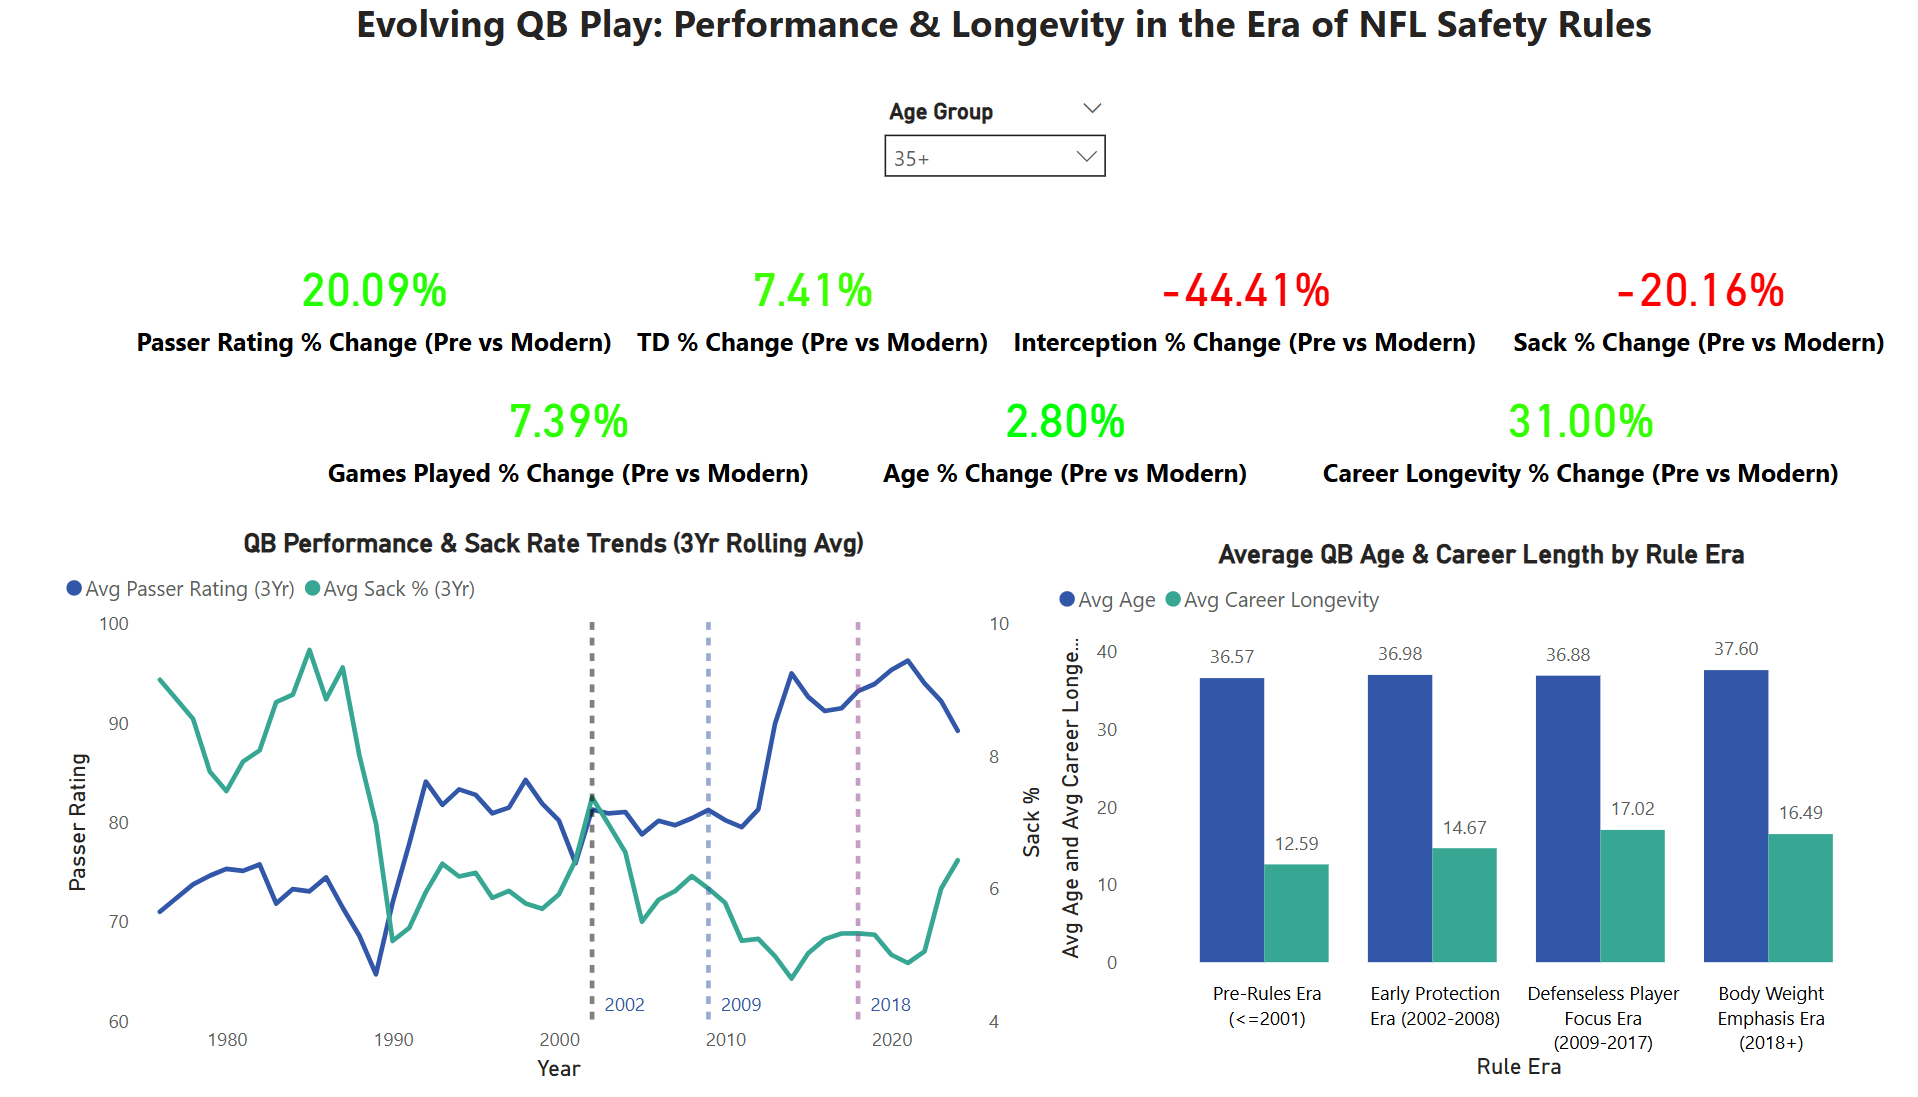

This screenshot's page, from the dashboard's own definition file:
{"tool":"powerbi","page":{"name":"Overview Summary","canvas":[1280,720],"ordinal":0},"visuals":[{"type":"textbox","box":[0,0,1280,50.7],"z":0},{"type":"card","fields":{"Values":["pass_cleaned.Passer Rating % Change (Pre vs Modern)"]},"box":[126.4,159.9,316,83.4],"z":1000},{"type":"card","fields":{"Values":["pass_cleaned.Sack % Change (Pre vs Modern)"]},"box":[997.1,159.8,275.2,83.4],"z":2000},{"type":"card","fields":{"Values":["pass_cleaned.Interception % Change (Pre vs Modern)"]},"box":[688.4,159.8,308.6,83.4],"z":3000},{"type":"card","fields":{"Values":["pass_cleaned.Age % Change (Pre vs Modern)"]},"box":[577.1,243.4,302.1,84.1],"z":4000},{"type":"card","fields":{"Values":["pass_cleaned.Games Played % Change (Pre vs Modern)"]},"box":[245.9,243.4,326.8,84.1],"z":5000},{"type":"card","fields":{"Values":["pass_cleaned.TD % Change (Pre vs Modern)"]},"box":[442.7,159.8,245.7,83.4],"z":6000},{"type":"lineChart","title":"QB Performance & Sack Rate Trends (3Yr Rolling Avg)","fields":{"Category":["pass_cleaned.Year"],"Y":["pass_cleaned.Rolling 3yr Avg Passer Rating"],"Y2":["pass_cleaned.Rolling 3yr Avg Sack %"]},"box":[80.6,345.1,637,360.3],"z":7000},{"type":"clusteredColumnChart","title":"Average QB Age & Career Length by Rule Era","fields":{"Category":["pass_cleaned.Rule_Era"],"Y":["pass_cleaned.Avg Age","pass_cleaned.Avg Career Longevity"]},"box":[718.1,352.5,554,352.5],"z":8000},{"type":"card","fields":{"Values":["pass_cleaned.Career Longevity % Change (Pre vs Modern)"]},"box":[879.2,243.4,359.7,84.1],"z":9000},{"type":"slicer","fields":{"Values":["pass_cleaned.Age_Group"]},"box":[601.8,65.4,162.3,75.7],"z":10000}]}

Visuals, with their boxes in screenshot pixels (x1, y1, x2, y2), scaled from the page's 1280x720 canvas onto the 1918x1097 screenshot:
textbox: select_region(0, 0, 1917, 77)
card - pass_cleaned.Passer Rating % Change (Pre vs Modern): select_region(189, 244, 663, 371)
card - pass_cleaned.Sack % Change (Pre vs Modern): select_region(1494, 243, 1906, 371)
card - pass_cleaned.Interception % Change (Pre vs Modern): select_region(1032, 243, 1494, 371)
card - pass_cleaned.Age % Change (Pre vs Modern): select_region(865, 371, 1317, 499)
card - pass_cleaned.Games Played % Change (Pre vs Modern): select_region(368, 371, 858, 499)
card - pass_cleaned.TD % Change (Pre vs Modern): select_region(663, 243, 1032, 371)
"QB Performance & Sack Rate Trends (3Yr Rolling Avg)" lineChart: select_region(121, 526, 1075, 1075)
"Average QB Age & Career Length by Rule Era" clusteredColumnChart: select_region(1076, 537, 1906, 1074)
card - pass_cleaned.Career Longevity % Change (Pre vs Modern): select_region(1317, 371, 1856, 499)
slicer - pass_cleaned.Age_Group: select_region(902, 100, 1145, 215)
